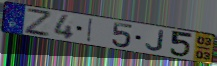4: (53, 14, 75, 40)
5: (169, 30, 196, 58), (110, 21, 134, 49)
I: (85, 17, 94, 44)
J: (144, 29, 166, 53)
Z: (24, 7, 52, 38)
